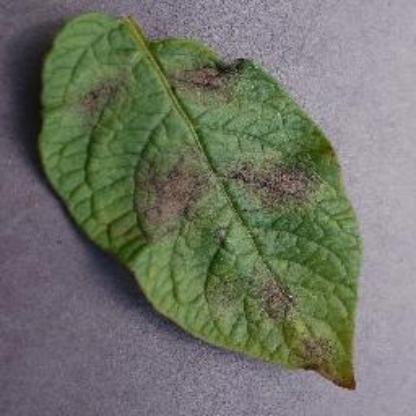Late-Blight: (28, 11, 370, 389)
